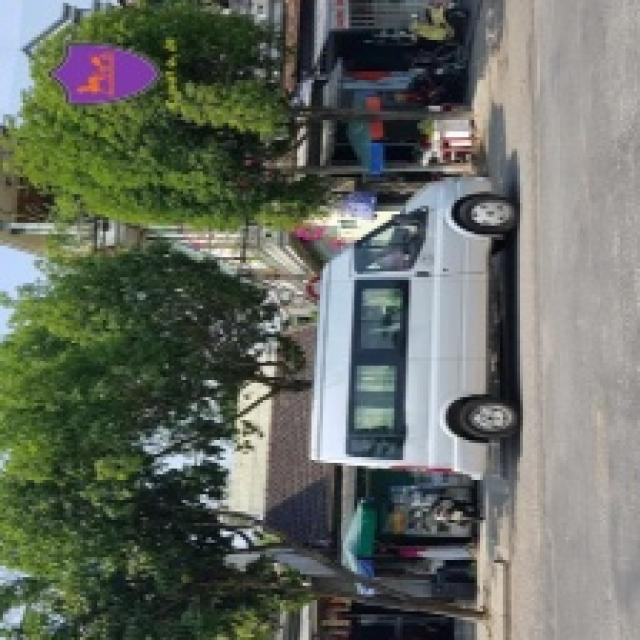car: (303, 148, 534, 494)
